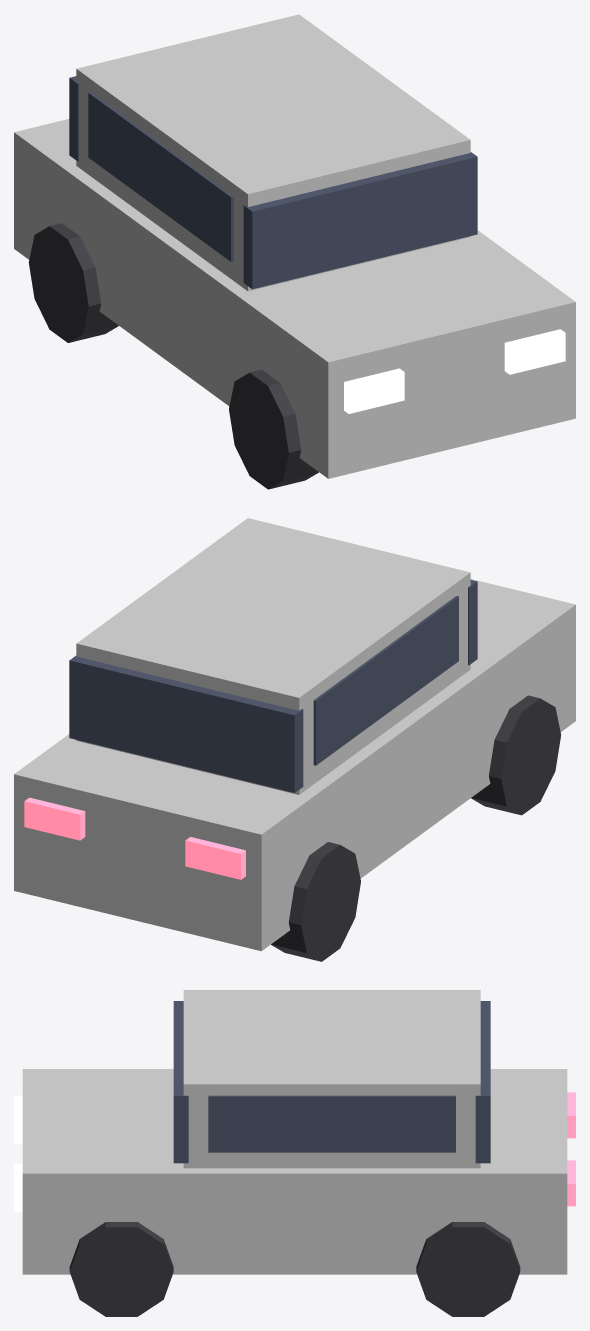
Rendered from car.glb.
The picture shows the model from 3 angles, top to bottom: view 1: azimuth 30°, elevation 25°; view 2: azimuth 150°, elevation 25°; view 3: azimuth 270°, elevation 25°; orthographic projection. The views are drawn at different scales.
Parts seen in each view (by area): view 1: Chassis, Cabin, Windshield, SideWindows, Wheel-11, Wheel-1-1, Headlight1, Headlight-1, RearWindow; view 2: Chassis, Cabin, RearWindow, SideWindows, Wheel-11, Wheel-1-1, Taillight1, Taillight-1, Windshield; view 3: Chassis, Cabin, SideWindows, Wheel1-1, Wheel11, Windshield, RearWindow, Headlight1, Headlight-1, Taillight1, Taillight-1.
Part boxes in pixels (bbox=[...]): Chassis: bbox=[14, 119, 575, 478]; Cabin: bbox=[76, 14, 470, 291]; Windshield: bbox=[243, 152, 477, 289]; SideWindows: bbox=[88, 92, 233, 261]; Wheel-11: bbox=[28, 223, 118, 342]; Wheel-1-1: bbox=[229, 369, 318, 489]; Headlight1: bbox=[504, 329, 565, 374]; Headlight-1: bbox=[344, 368, 404, 413]; RearWindow: bbox=[69, 76, 79, 161]; Chassis: bbox=[14, 579, 575, 951]; Cabin: bbox=[76, 518, 470, 794]; RearWindow: bbox=[69, 656, 303, 792]; SideWindows: bbox=[313, 596, 458, 765]; Wheel-11: bbox=[271, 842, 360, 961]; Wheel-1-1: bbox=[471, 695, 560, 815]; Taillight1: bbox=[24, 797, 85, 840]; Taillight-1: bbox=[185, 837, 245, 879]; Windshield: bbox=[468, 580, 477, 665]; Chassis: bbox=[22, 1069, 567, 1274]; Cabin: bbox=[183, 990, 480, 1168]; SideWindows: bbox=[208, 1095, 455, 1152]; Wheel1-1: bbox=[69, 1222, 173, 1316]; Wheel11: bbox=[416, 1222, 520, 1316]; Windshield: bbox=[173, 1001, 188, 1163]; RearWindow: bbox=[475, 1001, 490, 1163]; Headlight1: bbox=[14, 1163, 22, 1211]; Headlight-1: bbox=[14, 1095, 22, 1143]; Taillight1: bbox=[567, 1160, 575, 1206]; Taillight-1: bbox=[567, 1092, 575, 1138].
Size of the model in its own units: 2.2 by 1.98 by 4.54.
